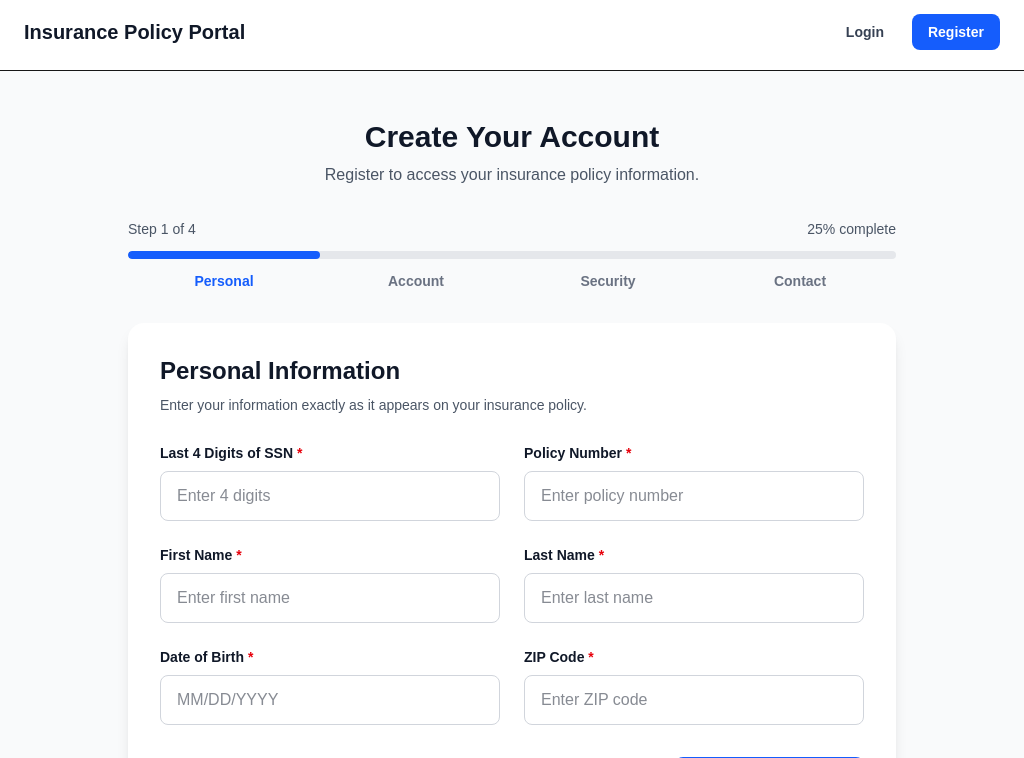
Test case: RegisterPage - Step 1 › should reject an SSN that does not contain exactly 4 digits
Type "123" into the field with placeholder "Enter 4 digits".
click(330, 496); type("123")  # box [160,471,500,521]
(page scrolled)
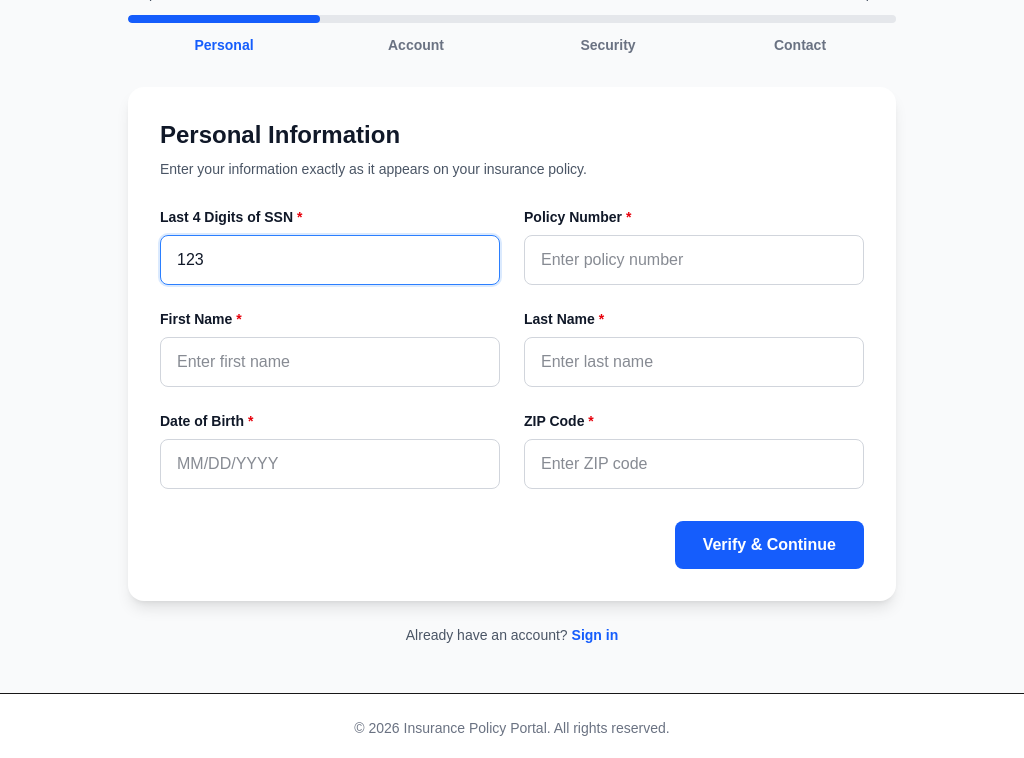
Click the button "Verify & Continue".
click(769, 545)  # box [675,521,864,569]
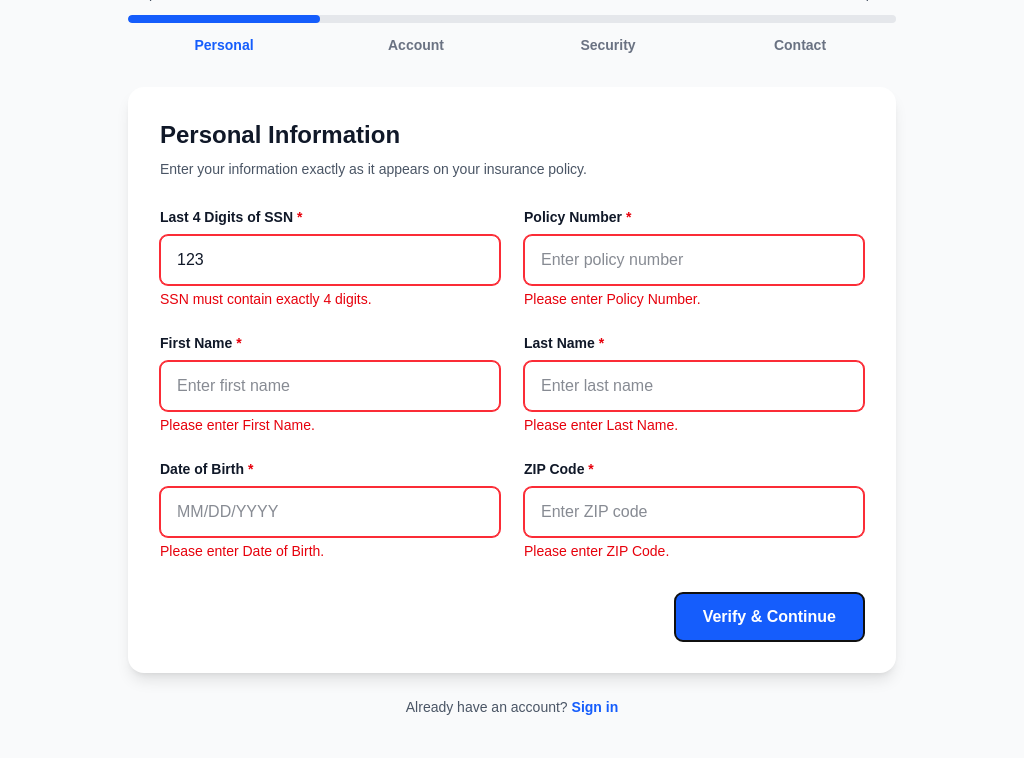
Now the text "SSN must contain exactly 4 digits." is shown, box [160,291,372,307]
